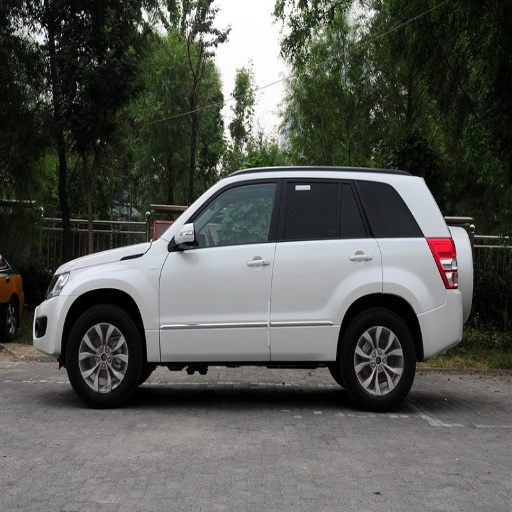back_left_door: (271, 177, 381, 353)
front_left_door: (159, 177, 281, 353)
